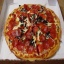olives: (32, 16, 48, 25), (18, 21, 27, 32)
pepperoni: (7, 29, 24, 49), (34, 43, 56, 52)
pizza: (5, 3, 62, 60)
